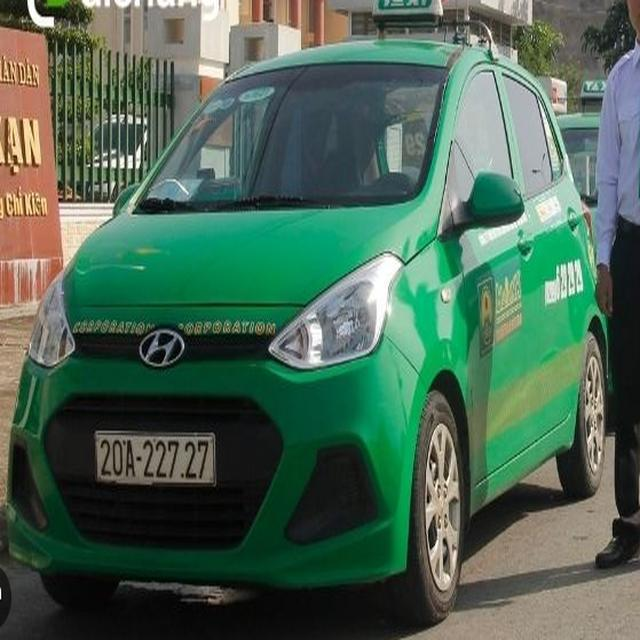car: (0, 35, 603, 630)
plate: (88, 428, 222, 492)
